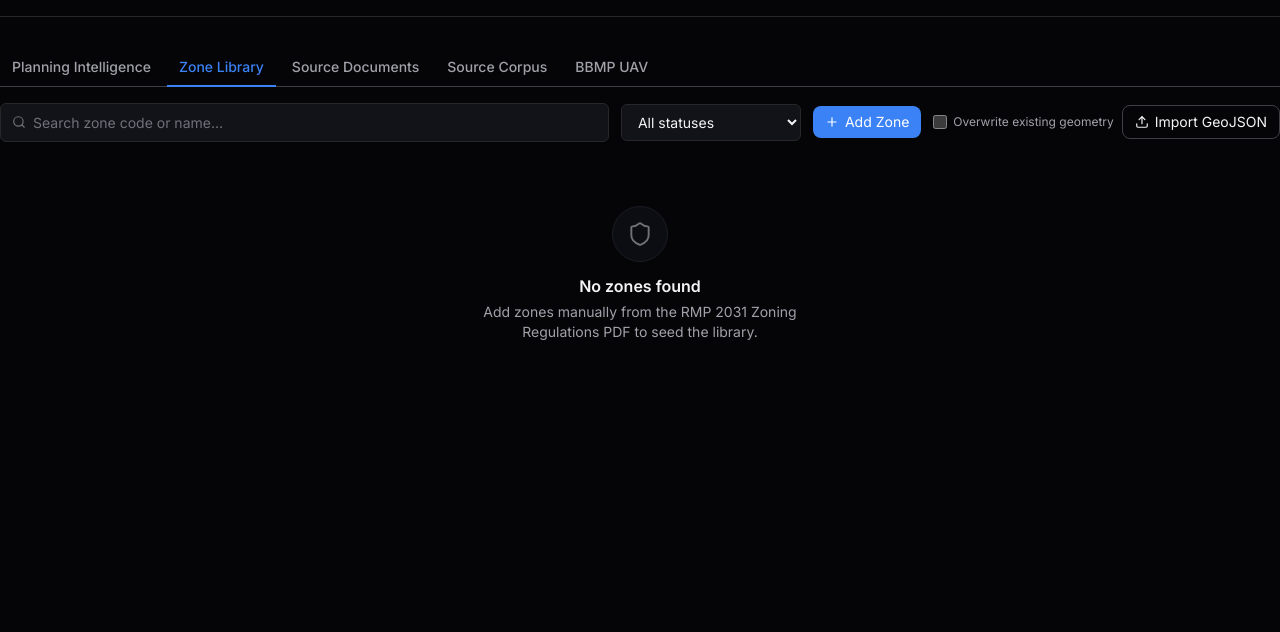
Test case: MasterPlanAdminPage source documents › shows source review history with previous metadata values
Click the button "Source Documents".
click(356, 68)  # box [280,49,431,87]
(page scrolled)
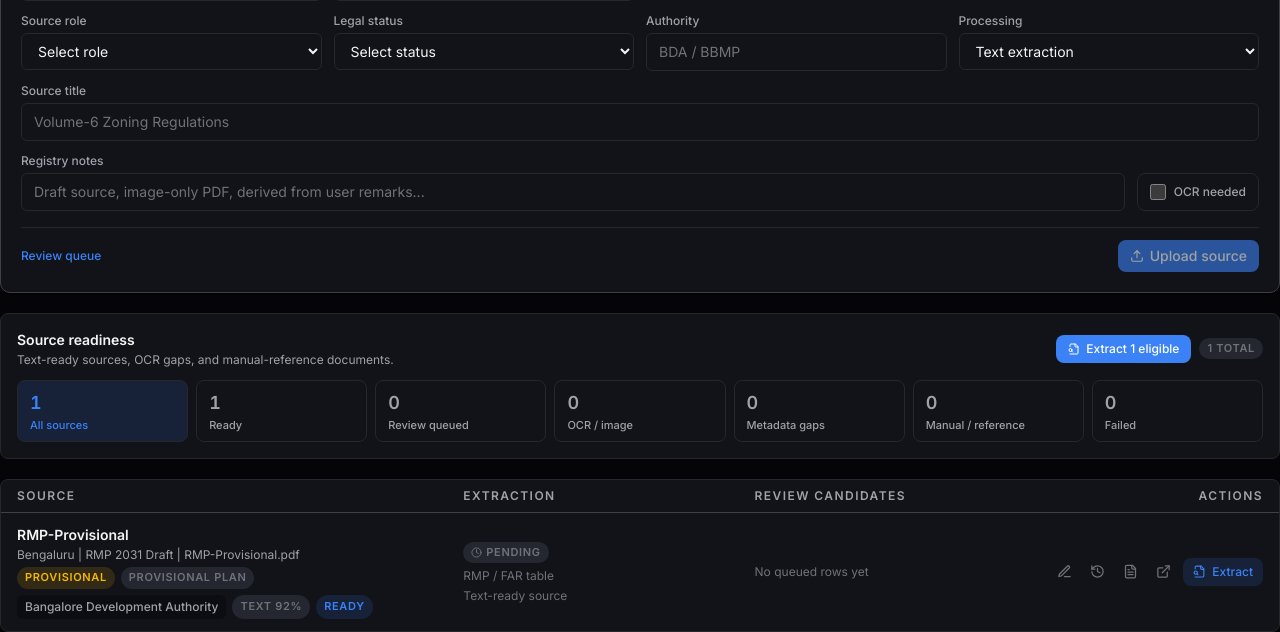
Click the button named "review history rmp-provisional".
click(1098, 572)  # box [1084,558,1111,586]
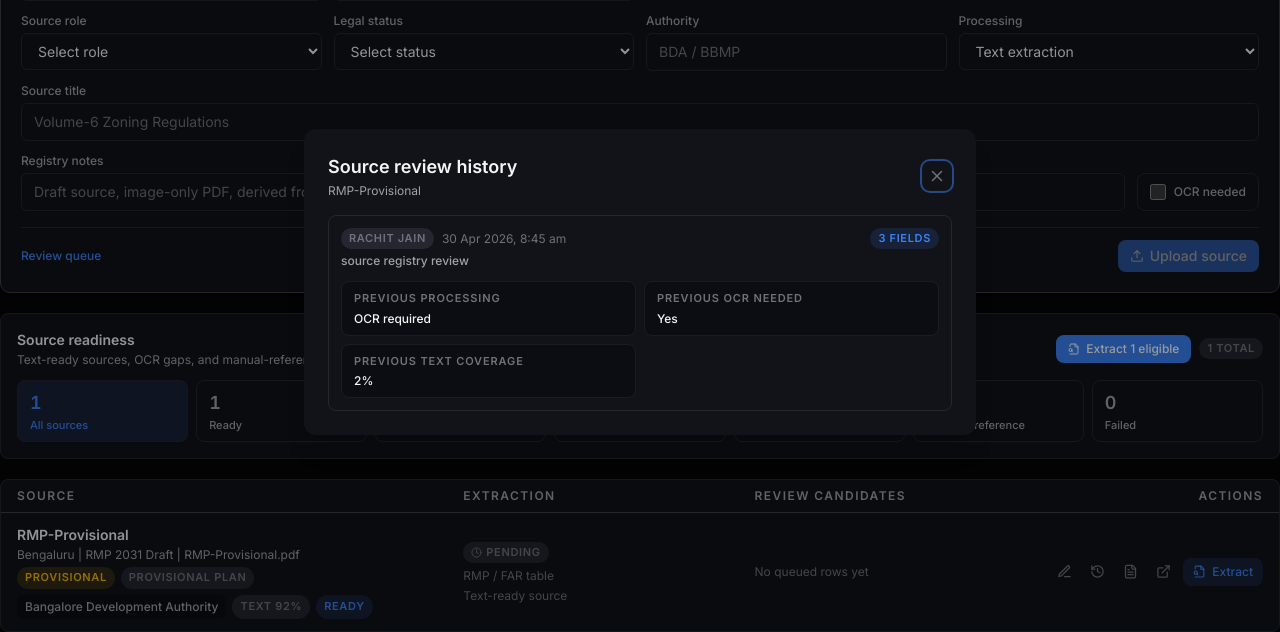
Check: the text "Rachit Jain" is shown, box [341,228,434,249]
Check: the text "source registry review" is shown, box [341,253,469,268]
Check: the text "Previous Processing" is shown, box [354,291,501,305]
